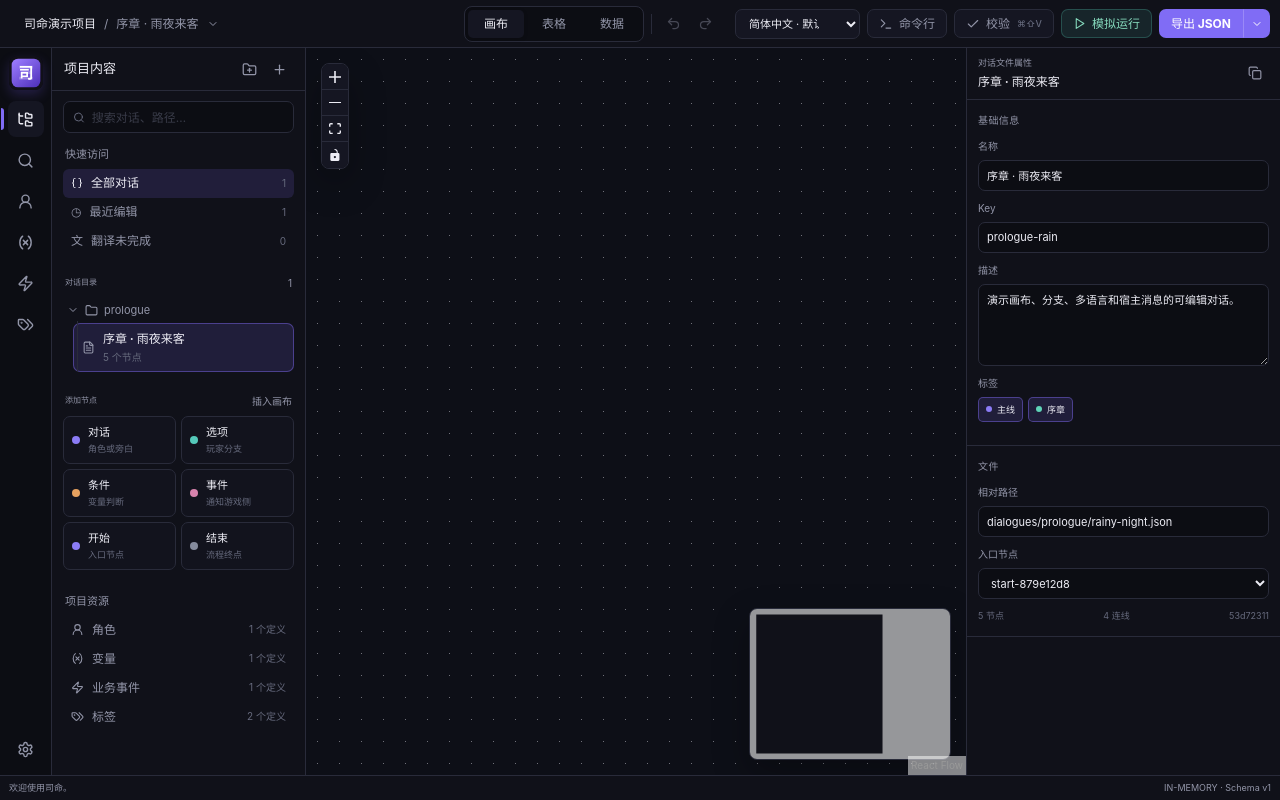
Test: top-right actions open the matching workbench and export menu
Click the button "数据". click: (612, 24)
box: [584,10,640,38]
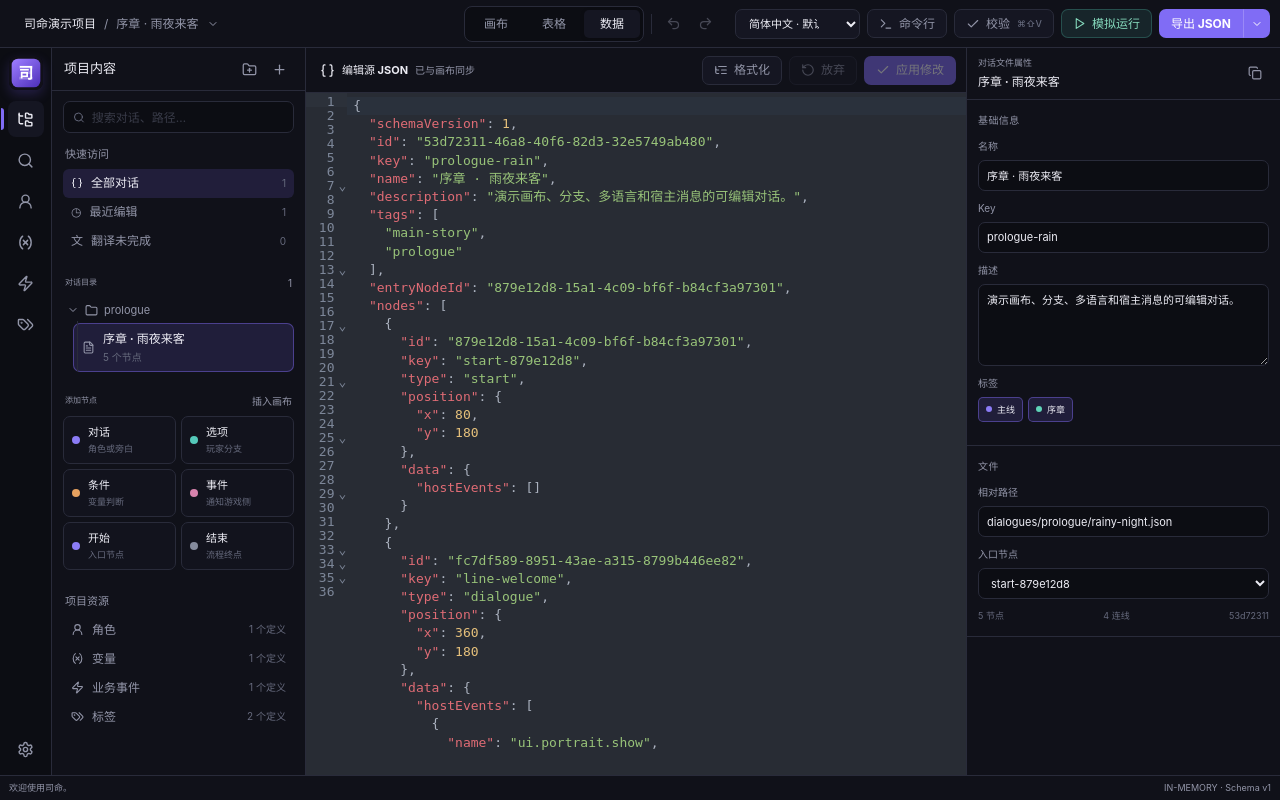
Click the button "命令行". click: (907, 24)
box: [867,9,947,38]
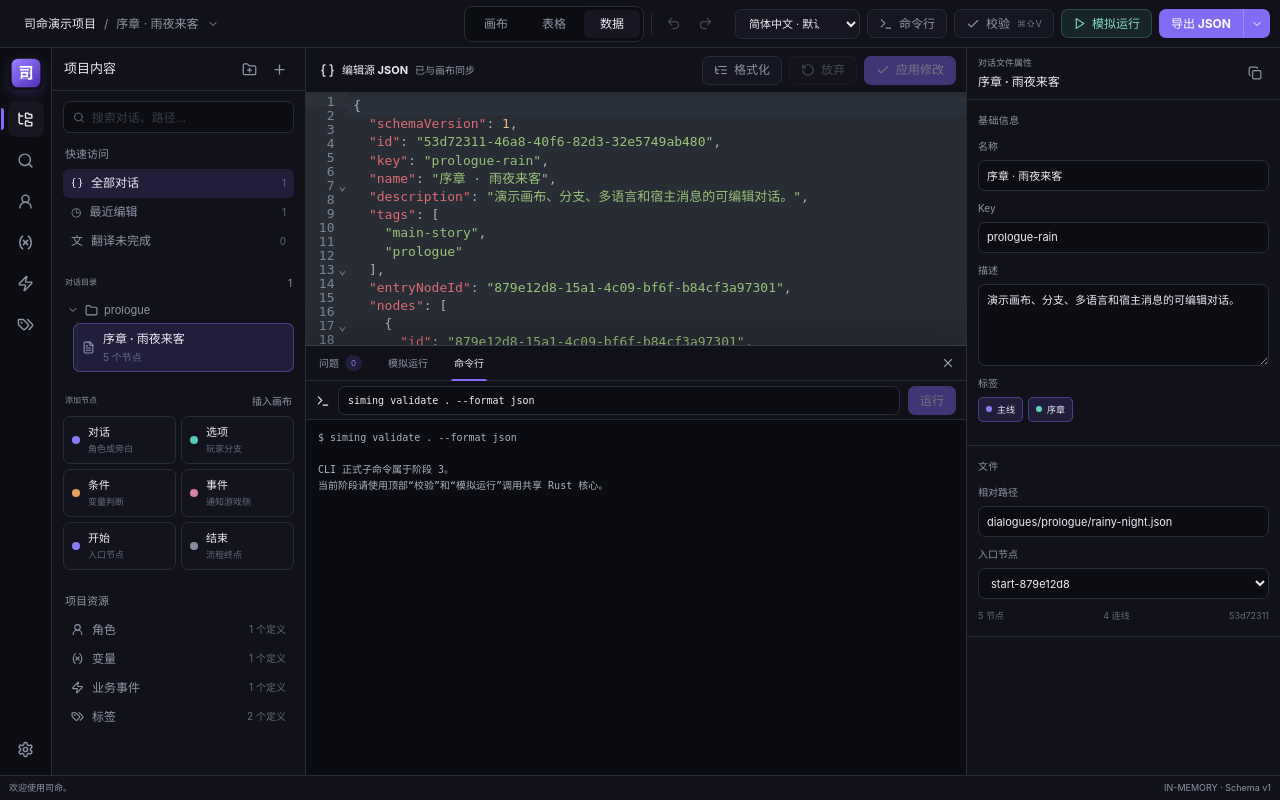
Expected: the field named "命令" is shown, [338,386,900,415]
Click the button "校验 ⌘⇧V". click: (1004, 24)
box: [954,9,1054,38]
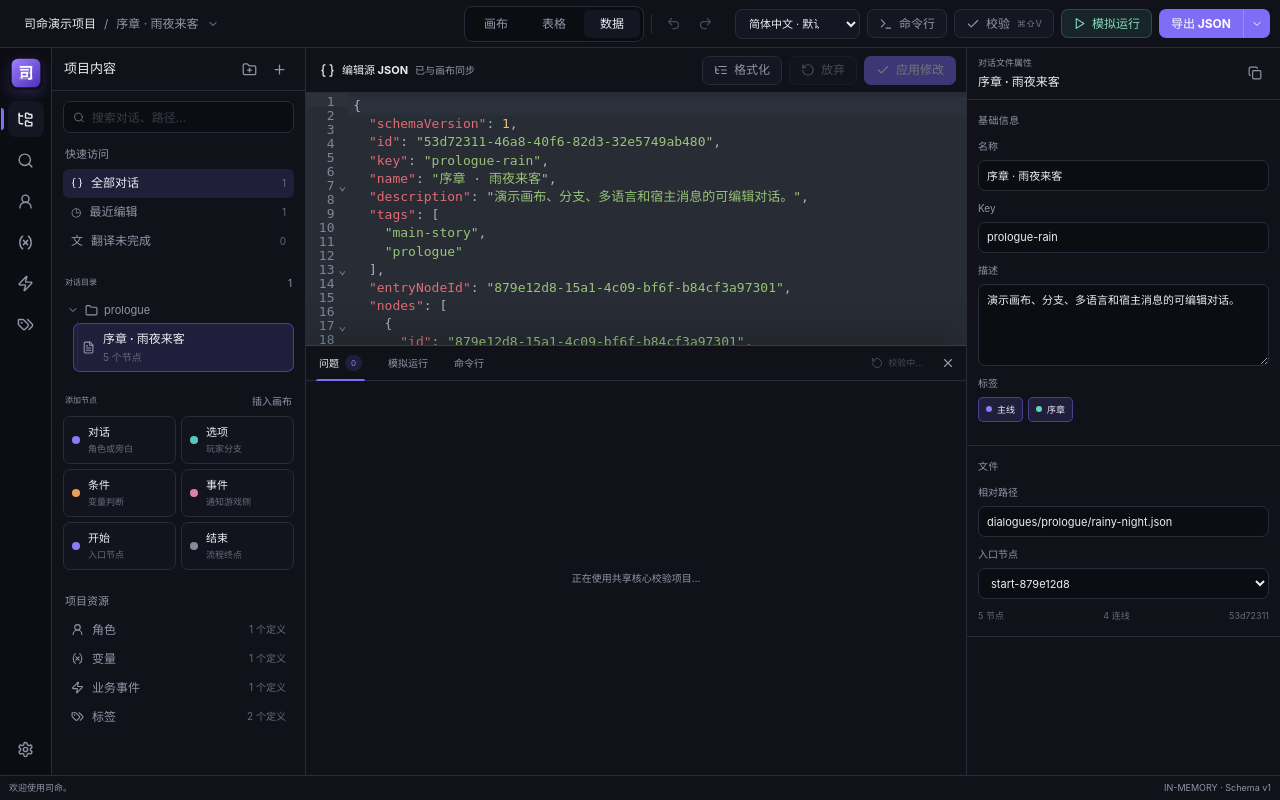
Expected: the element named "工作面板" is shown, [306,345,966,775]
Click the button named "选择导出格式". click: (1256, 24)
box: [1243,9,1270,38]
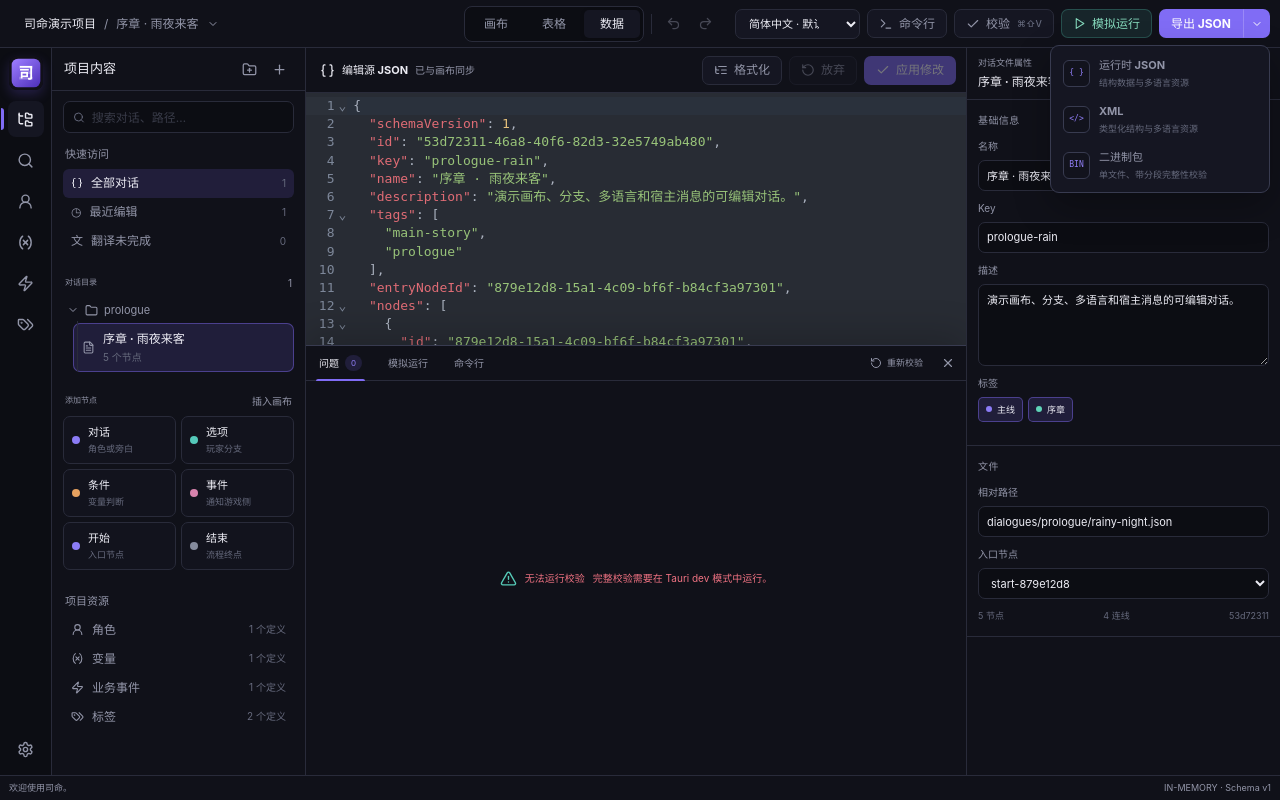
Expected: the menu item "{ } 运行时 JSON 结构数据与多语言资源" is shown, [1056,51,1264,95]
